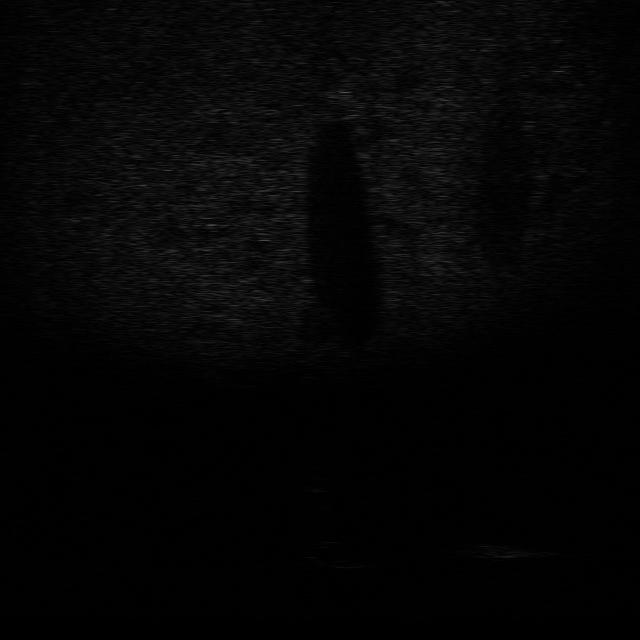ball: (295, 471, 337, 496)
metal bucket: (461, 539, 551, 564)
tyre: (304, 538, 385, 571)
